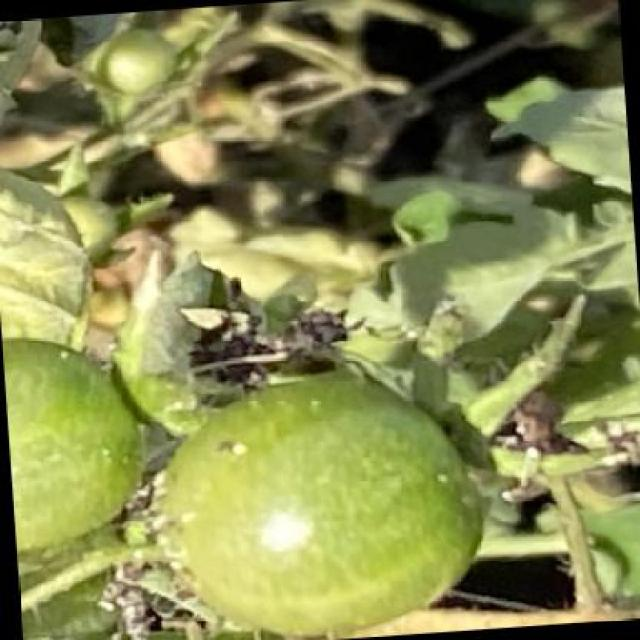unripe tomato: (149, 363, 497, 639)
